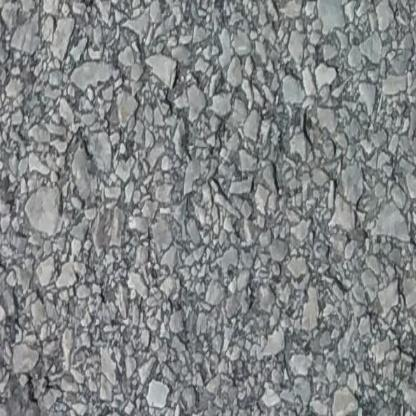Cracks: (383, 375, 416, 416)
